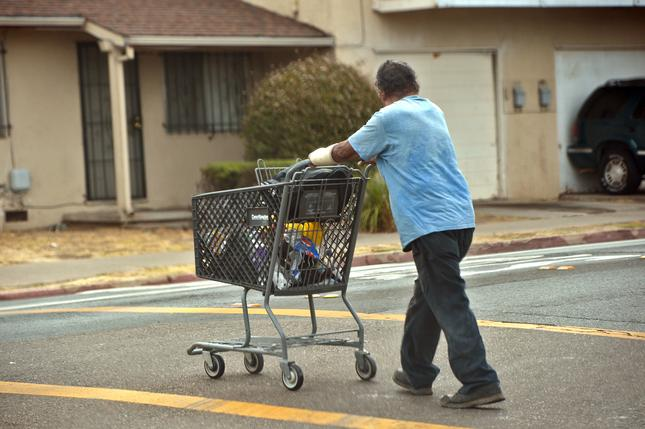Person: (347, 58, 514, 409)
shopping_cart: (177, 157, 386, 397)
